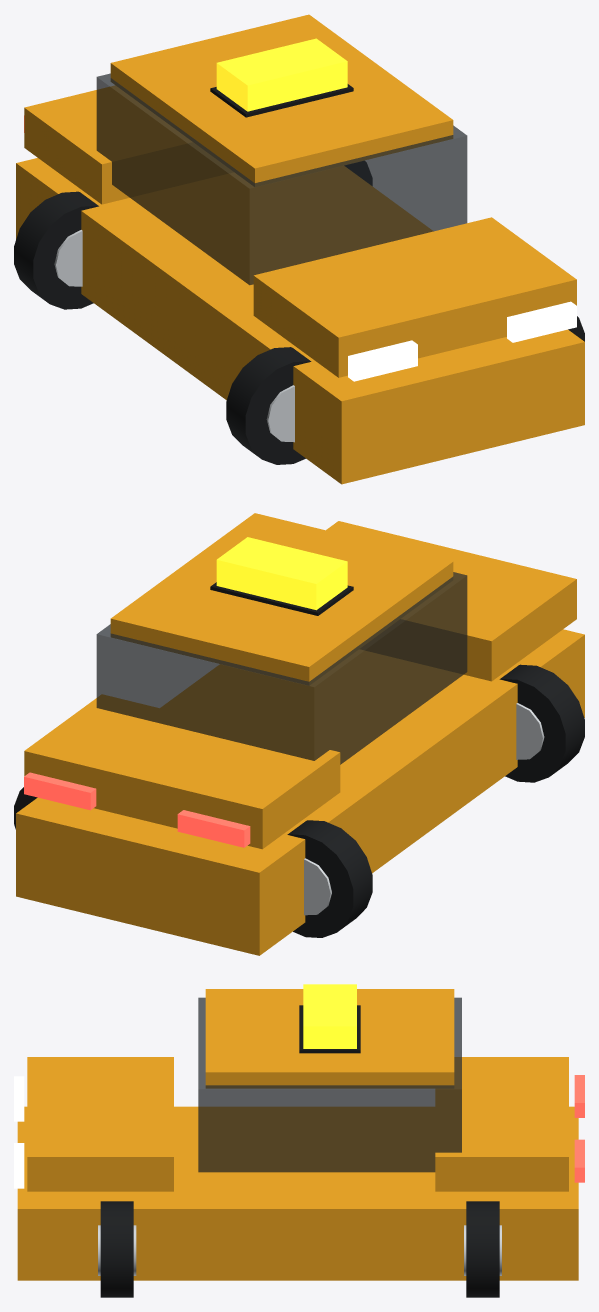
The model's file is car-request-mid.glb.
3 views of the same model, one above another, from view 1: azimuth 30°, elevation 25°; view 2: azimuth 150°, elevation 25°; view 3: azimuth 270°, elevation 25° (orthographic). The views are drawn at different scales.
Visible parts, largest first — view 1: car-request-mid; view 2: car-request-mid; view 3: car-request-mid.
Part boxes in pixels (bbox=[...]): car-request-mid: bbox=[14, 14, 584, 484]; car-request-mid: bbox=[14, 513, 584, 955]; car-request-mid: bbox=[14, 984, 584, 1297].
Size of the model in its own units: 2.65 by 2.05 by 4.48.
